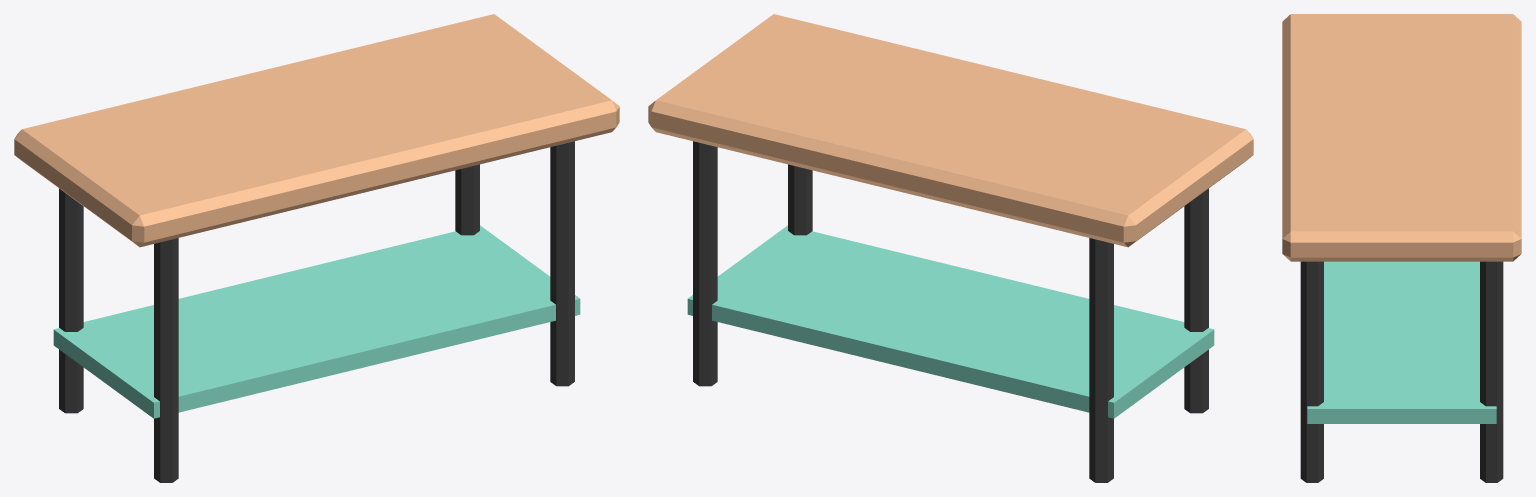
The picture shows the model from 3 angles, left to right: view 1: azimuth 30°, elevation 25°; view 2: azimuth 150°, elevation 25°; view 3: azimuth 270°, elevation 25°; orthographic projection. The views are drawn at different scales.
Visible parts, largest first — view 1: Worktop, Lower shelf, Leg.002, Leg, Leg.001, Leg.003; view 2: Worktop, Lower shelf, Leg.003, Leg.001, Leg, Leg.002; view 3: Worktop, Lower shelf, Leg.002, Leg.003.
Part boxes in pixels (x1,y1,x2,y2): Worktop: [14, 14, 619, 247]; Lower shelf: [53, 225, 580, 418]; Leg.002: [550, 141, 574, 386]; Leg: [154, 238, 178, 482]; Leg.001: [59, 188, 83, 413]; Leg.003: [455, 164, 479, 235]; Worktop: [648, 14, 1253, 247]; Lower shelf: [687, 225, 1214, 418]; Leg.003: [693, 141, 717, 386]; Leg.001: [1089, 238, 1113, 482]; Leg: [1184, 188, 1208, 413]; Leg.002: [788, 164, 812, 235]; Worktop: [1282, 14, 1521, 261]; Lower shelf: [1307, 261, 1496, 423]; Leg.002: [1300, 261, 1323, 482]; Leg.003: [1480, 261, 1503, 482].
Size of the model in its own units: 1.6 by 0.88 by 0.72.
1 material, 1 textured.
